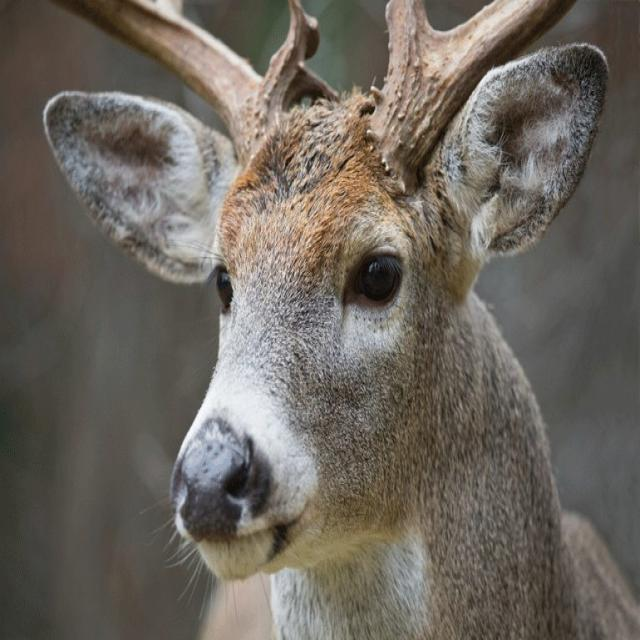deer: (44, 0, 640, 639)
